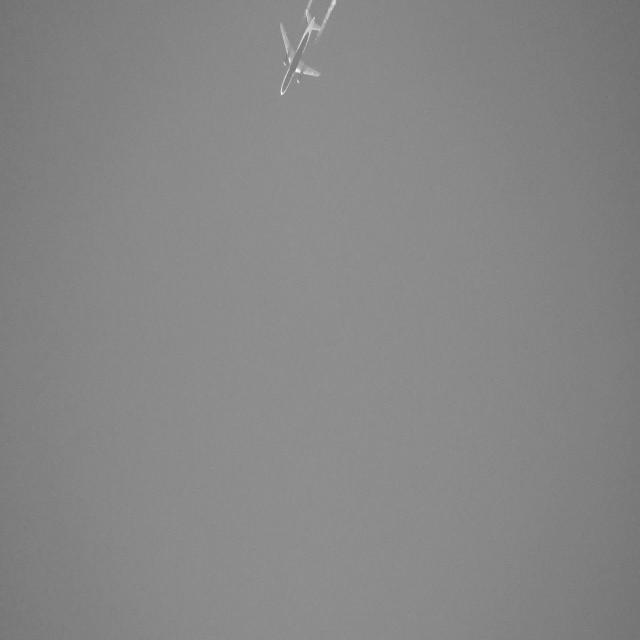aeroplane: (277, 4, 325, 105)
